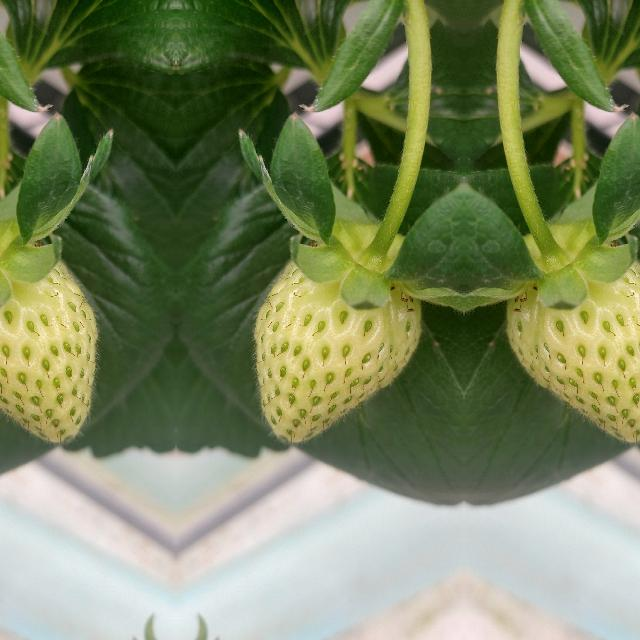Health_25: (252, 260, 420, 442), (506, 260, 640, 441), (0, 260, 97, 441)
